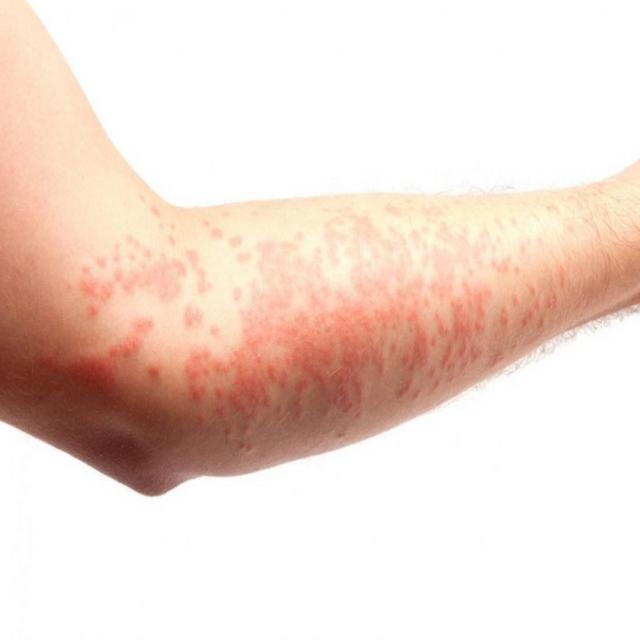hives: (70, 185, 608, 447)
